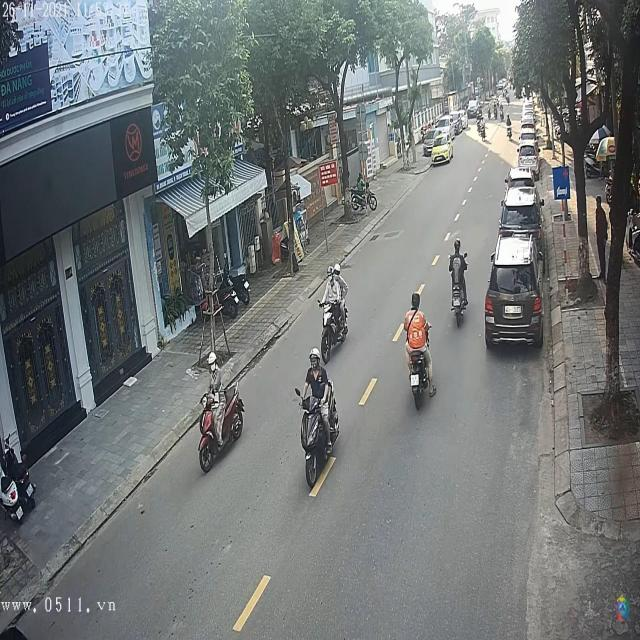car: (485, 251, 542, 349), (501, 183, 539, 228)
motorcycle: (195, 384, 245, 478), (298, 381, 340, 485), (319, 284, 351, 364), (408, 344, 435, 401), (449, 277, 469, 329)
